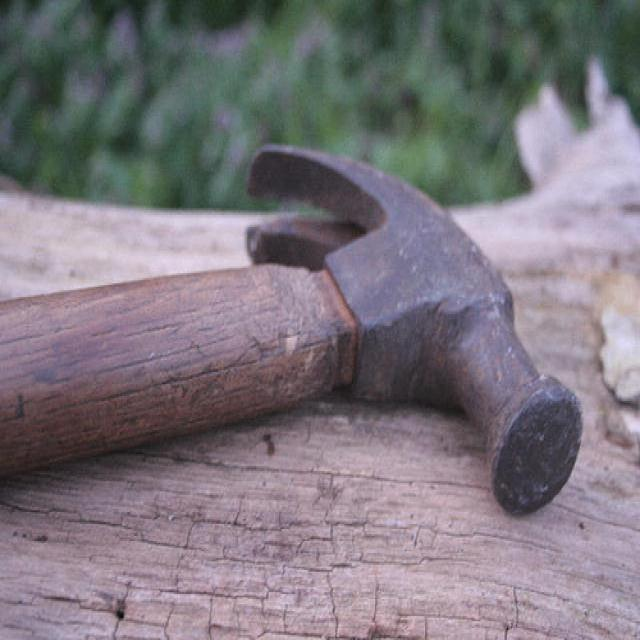hammer: (0, 135, 588, 528)
